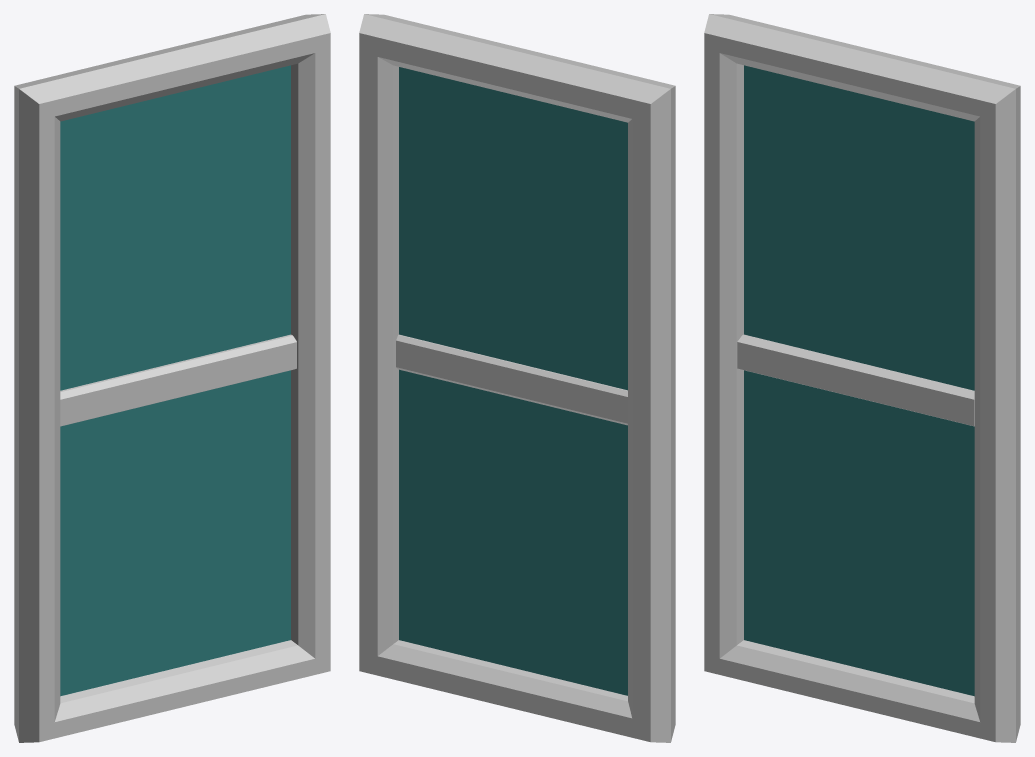
Rendered from Window A.glb.
The picture shows the model from 3 angles, left to right: view 1: azimuth 30°, elevation 25°; view 2: azimuth 150°, elevation 25°; view 3: azimuth 330°, elevation 25°; orthographic projection.
Parts seen in each view (by area): view 1: Window A; view 2: Window A; view 3: Window A.
Part boxes in pixels (x1,y1,x2,y2): Window A: (14, 14, 330, 742); Window A: (359, 14, 675, 742); Window A: (704, 14, 1020, 742).
Bounding box in the file's own units: 0.2992 × 0.6096 × 0.0422.
